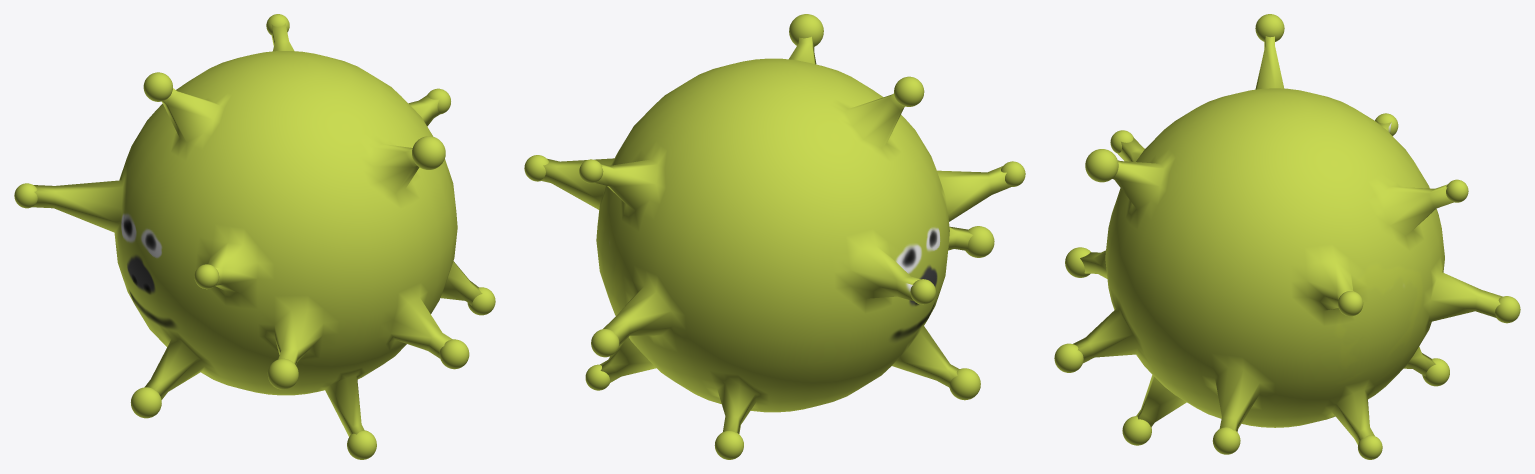
Rendered from vazovski (1).fbx.
The picture shows the model from 3 angles, left to right: view 1: azimuth 30°, elevation 25°; view 2: azimuth 150°, elevation 25°; view 3: azimuth 270°, elevation 25°; orthographic projection. The views are drawn at different scales.
Visible parts, largest first — view 1: Сфера; view 2: Сфера; view 3: Сфера.
Boxes of the visible parts, <box> form: Сфера: <box>14,14,495,459</box>; Сфера: <box>524,14,1025,459</box>; Сфера: <box>1054,14,1520,459</box>.
Bounding box in the file's own units: 603 × 511 × 594.
1 material, 1 textured.
